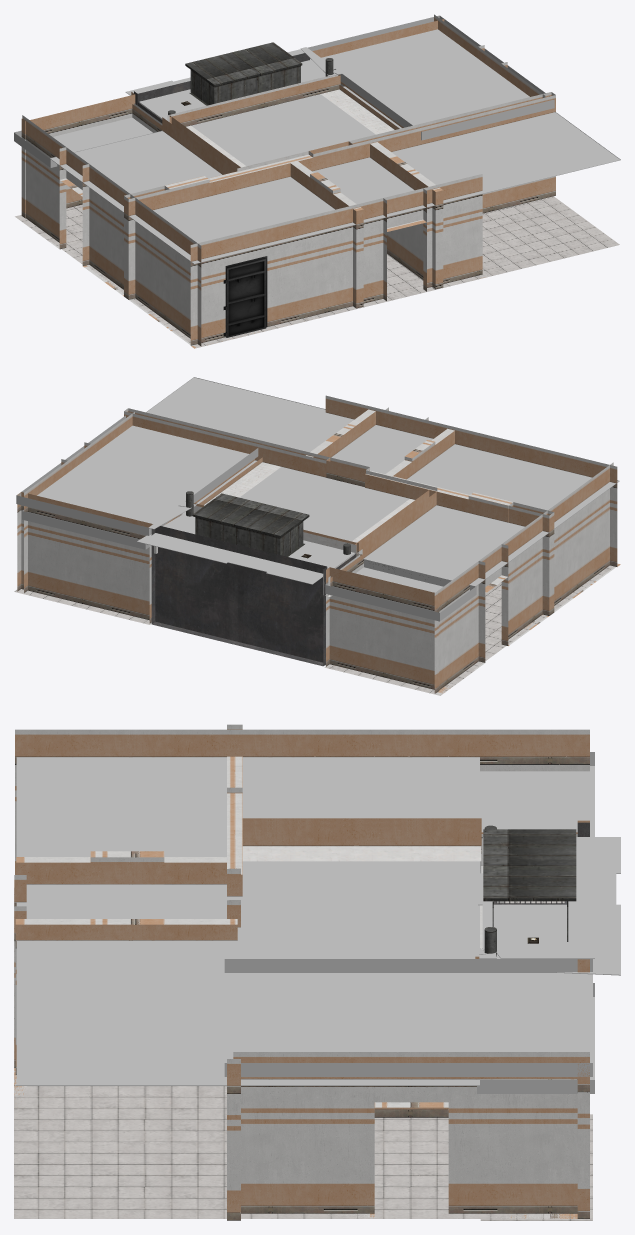
Rendered from OZ_room3_gw.obj.
The picture shows the model from 3 angles, top to bottom: view 1: azimuth 30°, elevation 25°; view 2: azimuth 150°, elevation 25°; view 3: azimuth 270°, elevation 25°; orthographic projection. The views are drawn at different scales.
Parts seen in each view (by area): view 1: room3gw_opt; view 2: room3gw_opt; view 3: room3gw_opt.
Part boxes in pixels (x1=…): room3gw_opt: x1=14, y1=14, x2=620, y2=348; room3gw_opt: x1=14, y1=377, x2=620, y2=695; room3gw_opt: x1=14, y1=724, x2=620, y2=1220.
Bounding box in the file's own units: 20.63 × 5.53 × 15.79.
